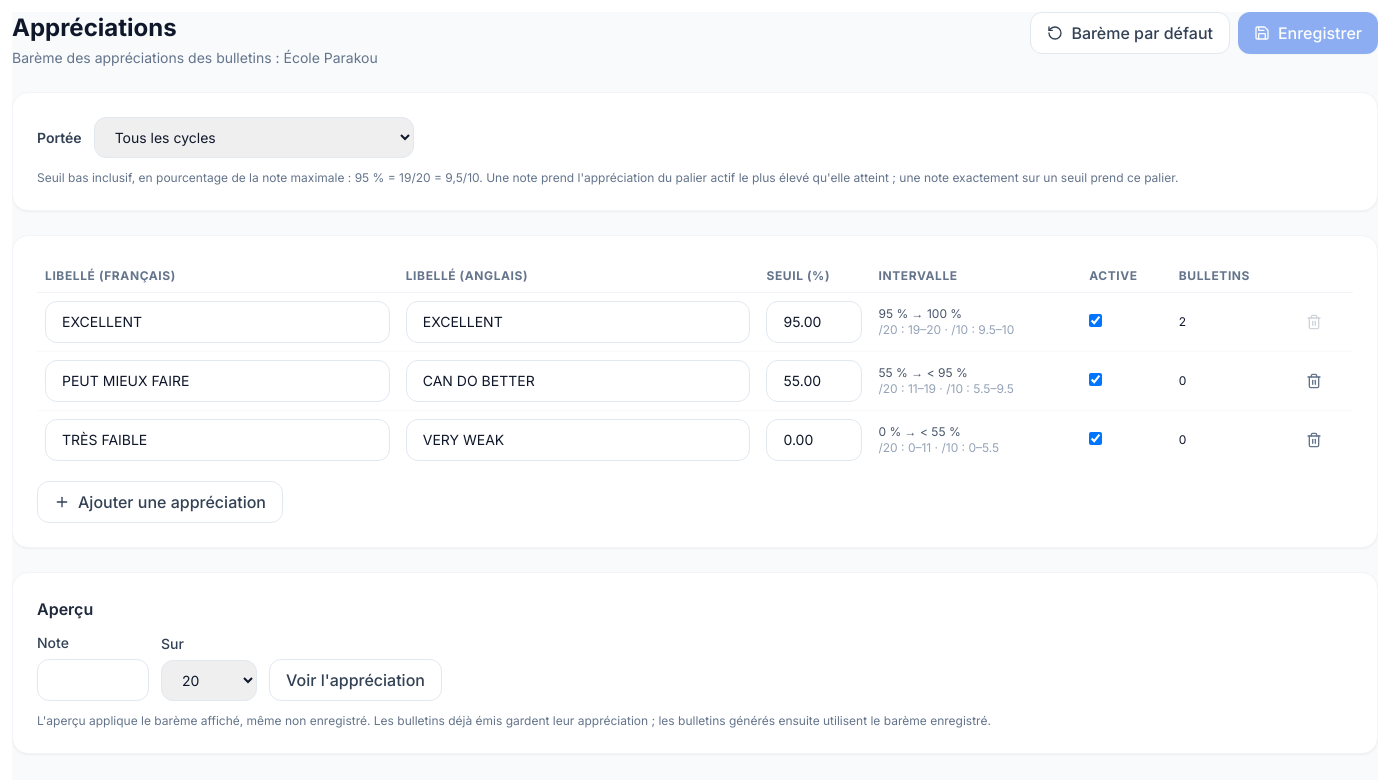
Test: écran › affiche les erreurs du serveur et n'annonce pas de succès
Replace the text in the field named "Libellé (français)" in the row of "< 95 %" with "AUTRE" at (217, 381), box [45,360,390,402]
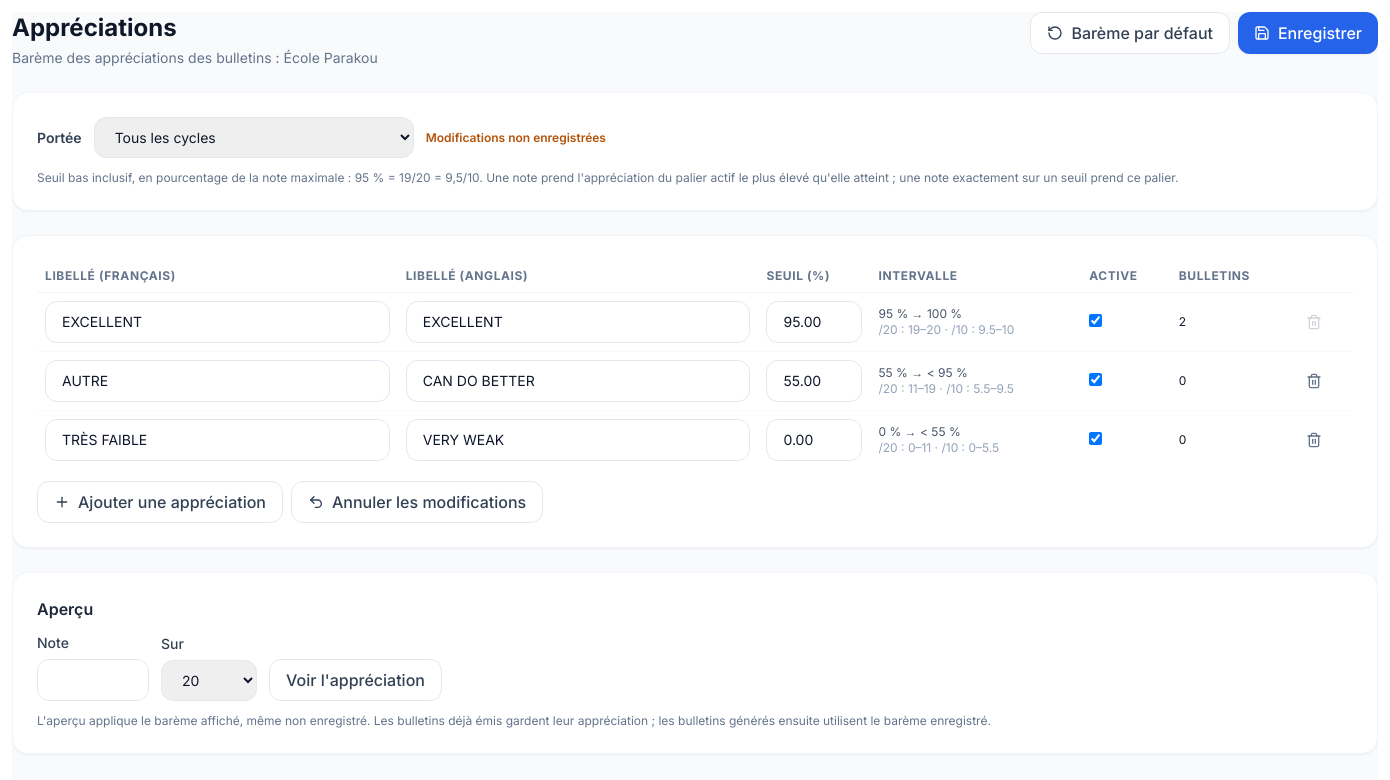
Click the button with test id "appreciations-save" at (1308, 33), box [1238,12,1378,54]
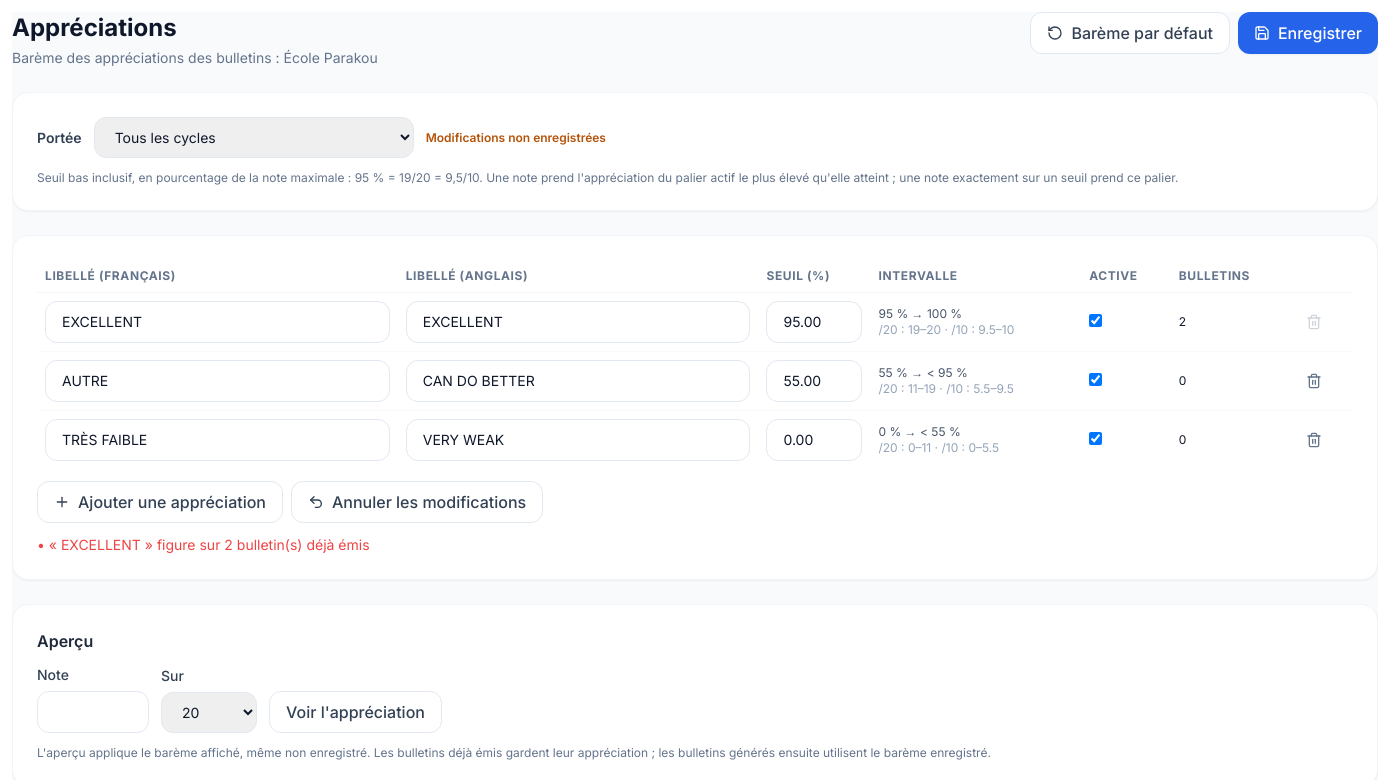
expect the message with test id "appreciations-errors" shows "déjà émis": met, box [49,536,370,553]
